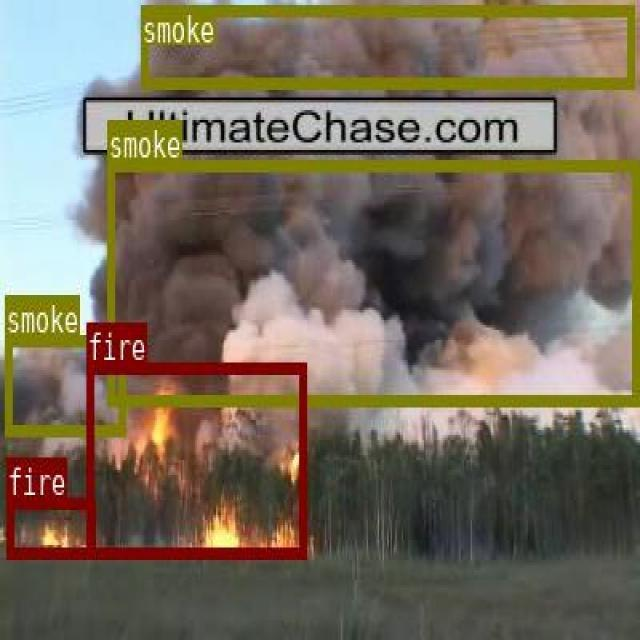fire: (87, 362, 306, 557), (7, 496, 95, 556)
smoke: (107, 159, 637, 402), (139, 5, 633, 87), (4, 333, 124, 433)
